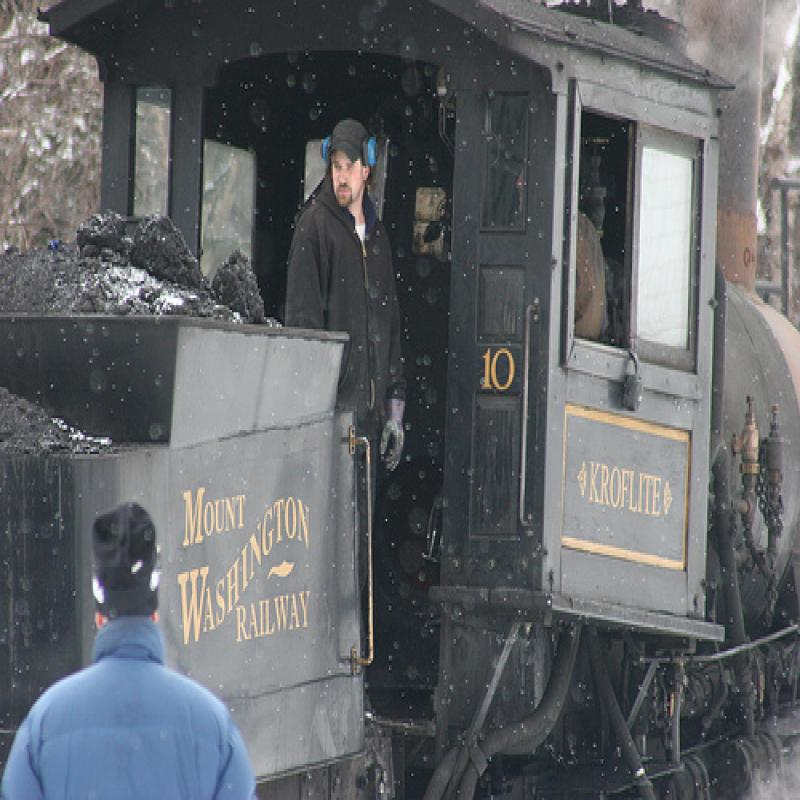train: (3, 1, 800, 799)
